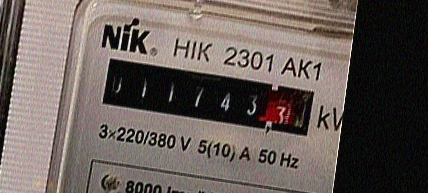0: (109, 67, 126, 95)
1: (135, 70, 153, 100), (163, 75, 180, 104)
3: (243, 89, 260, 118), (271, 103, 289, 126)
4: (217, 87, 235, 114)
7: (190, 81, 207, 108)
screen: (93, 51, 325, 144)
